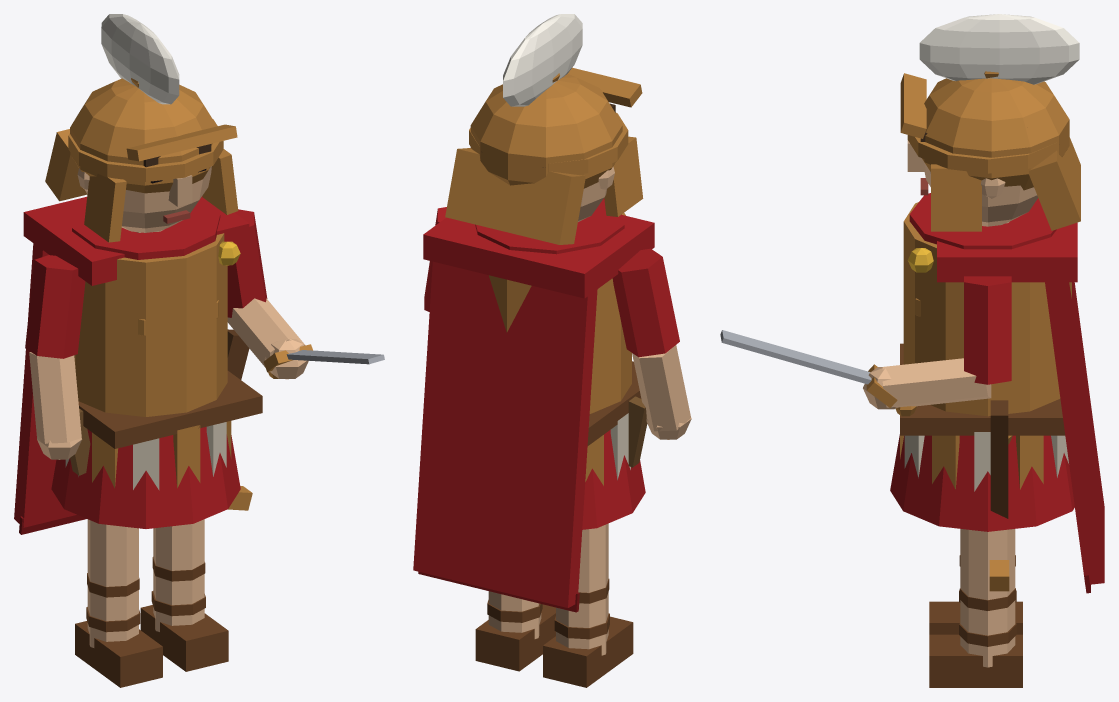
Rendered from scypion.glb.
The picture shows the model from 3 angles, left to right: view 1: azimuth 30°, elevation 25°; view 2: azimuth 150°, elevation 25°; view 3: azimuth 270°, elevation 25°; orthographic projection. The views are drawn at different scales.
Visible parts, largest first — view 1: cialo, glowa, noga_l, reka_l, noga_p, reka_p, peleryna; view 2: peleryna, glowa, cialo, reka_l, noga_l, noga_p; view 3: cialo, glowa, reka_p, noga_p, peleryna, noga_l.
Boxes of the visible parts, box(x1,y1,x2,y2) form: cialo: box(23, 196, 262, 528); glowa: box(45, 14, 238, 242); noga_l: box(75, 519, 162, 687); reka_l: box(25, 255, 85, 459); noga_p: box(140, 519, 228, 671); reka_p: box(227, 209, 384, 379); peleryna: box(14, 243, 86, 534); peleryna: box(413, 261, 597, 612); glowa: box(445, 14, 643, 244); cialo: box(423, 198, 654, 529); reka_l: box(612, 248, 691, 439); noga_l: box(543, 523, 633, 687); noga_p: box(475, 591, 555, 671); cialo: box(890, 193, 1077, 591); glowa: box(900, 14, 1080, 231); reka_p: box(720, 276, 1011, 416); noga_p: box(929, 529, 1022, 687); peleryna: box(1045, 282, 1104, 593); noga_l: box(929, 555, 1022, 634).
Size of the model in its own units: 0.7352 by 1.83 by 0.9829.
